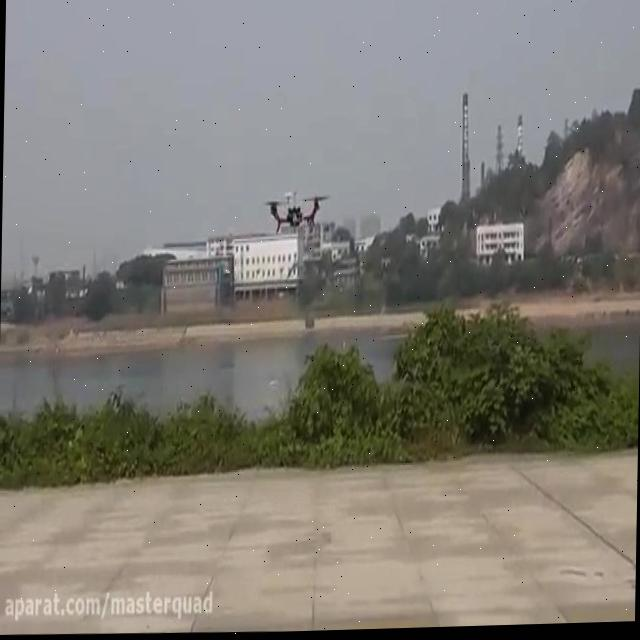drone: (260, 183, 330, 240)
